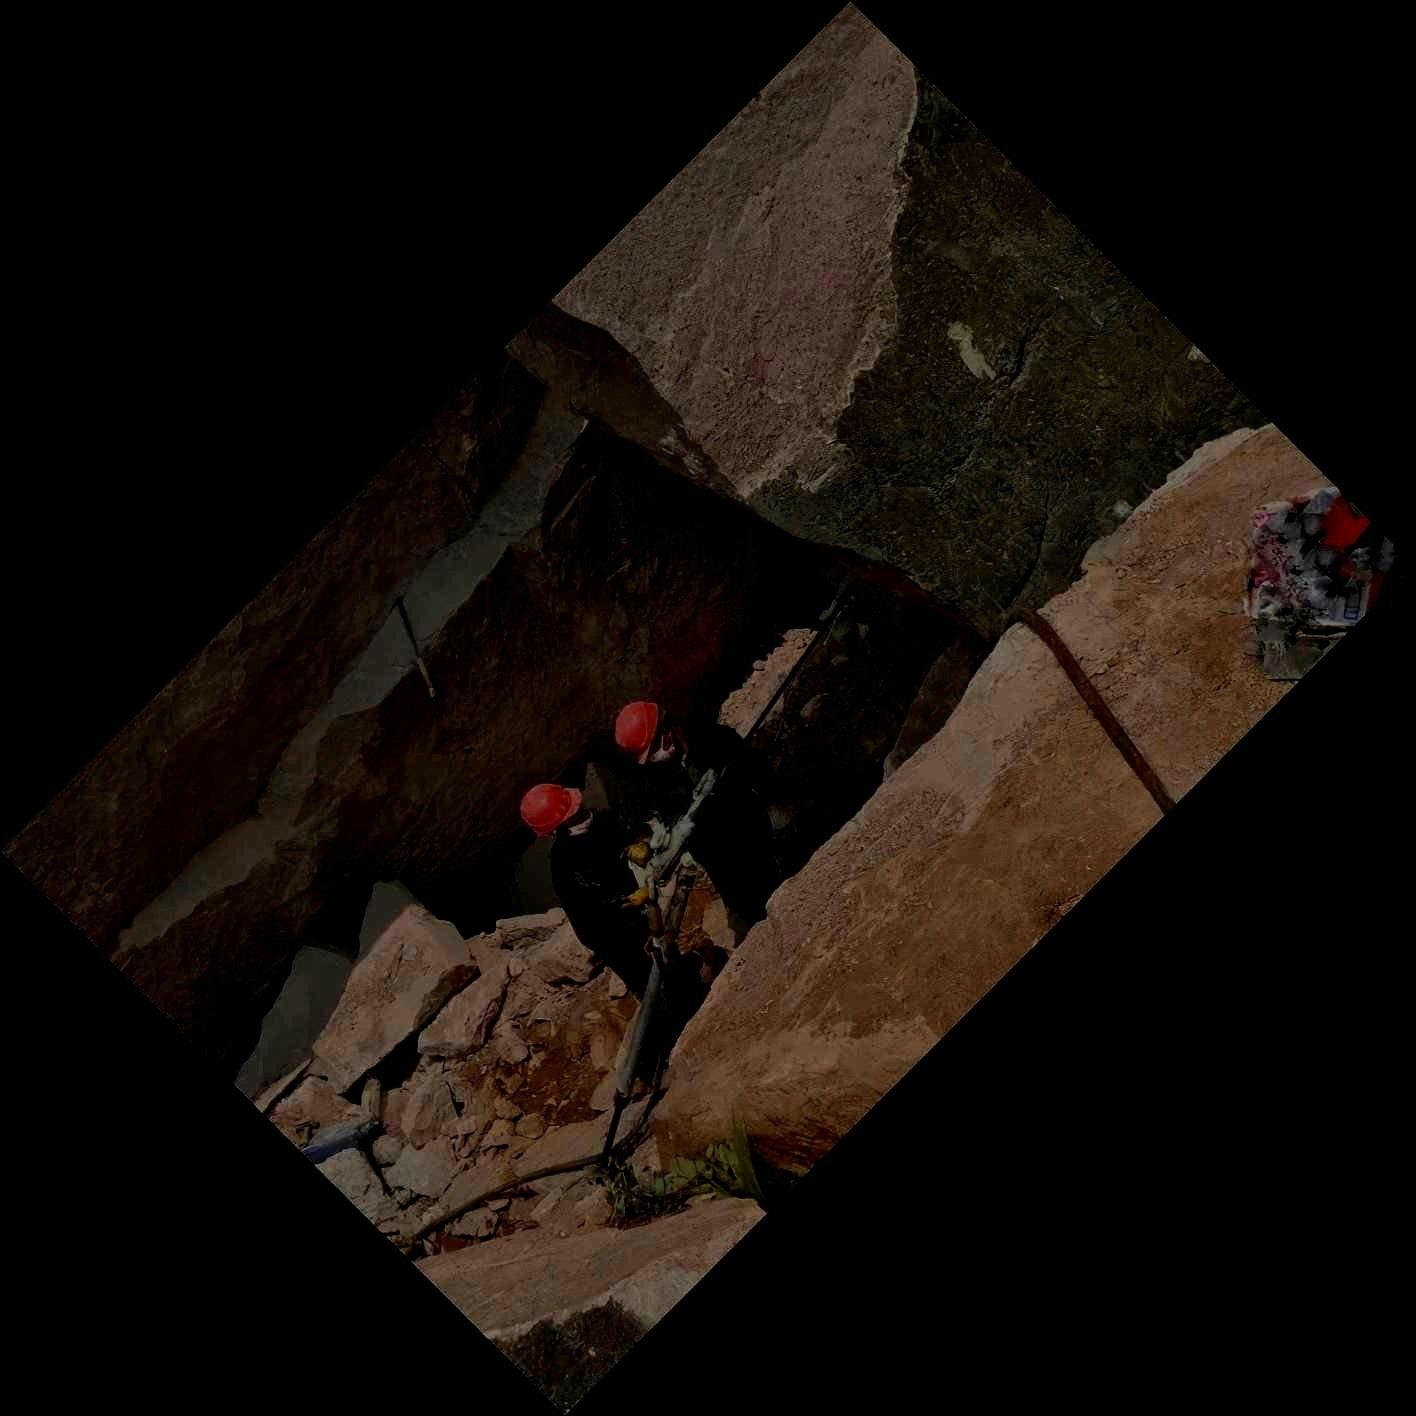helmet: (519, 783, 593, 842), (615, 702, 676, 768)
